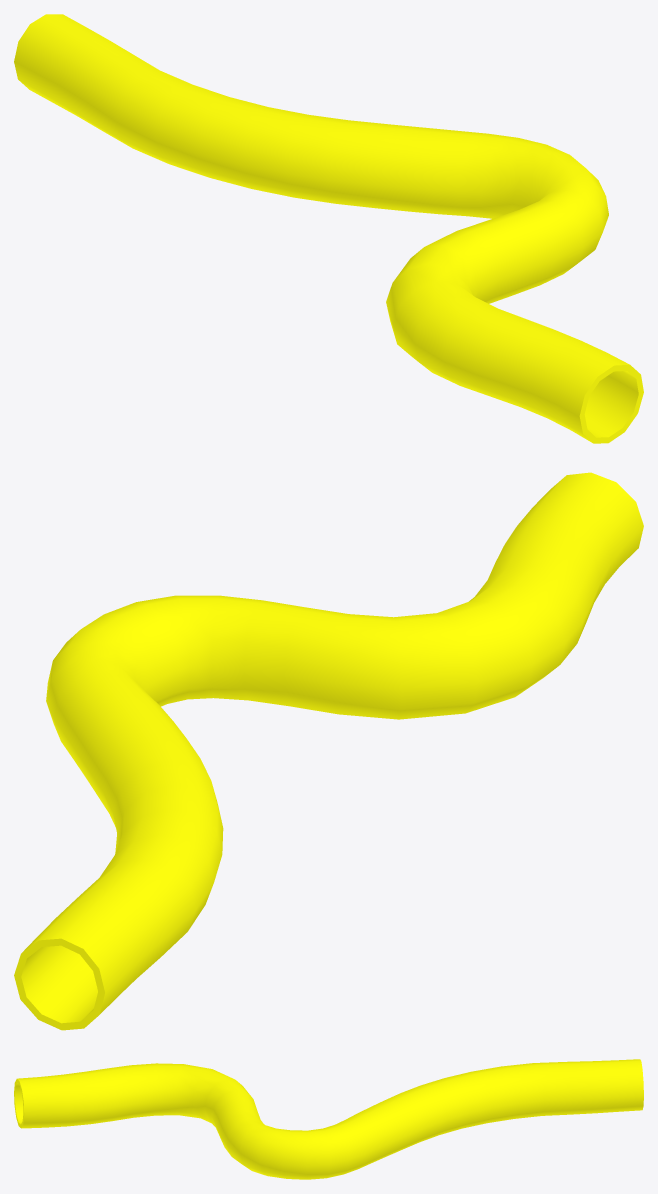
The model's file is pipe_e_1.glb.
The picture shows the model from 3 angles, top to bottom: view 1: azimuth 30°, elevation 25°; view 2: azimuth 150°, elevation 25°; view 3: azimuth 270°, elevation 25°; orthographic projection. The views are drawn at different scales.
Parts seen in each view (by area): view 1: pipe_e_1; view 2: pipe_e_1; view 3: pipe_e_1.
Part boxes in pixels (left/top/right/bottom): pipe_e_1: left=14, top=14, right=643, bottom=443; pipe_e_1: left=14, top=472, right=643, bottom=1030; pipe_e_1: left=14, top=1059, right=643, bottom=1179.
Bounding box in the file's own units: 1.05 × 0.25 × 3.05.
Materials: 1 (1 with a texture image).
